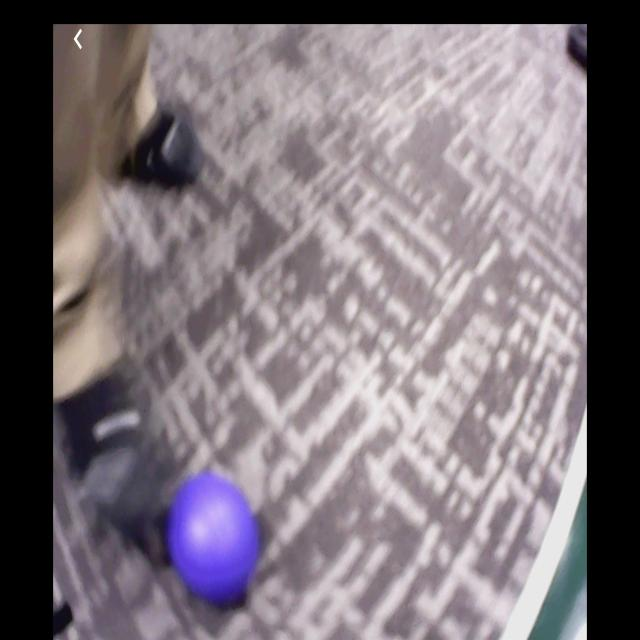ball: (170, 475, 260, 603)
